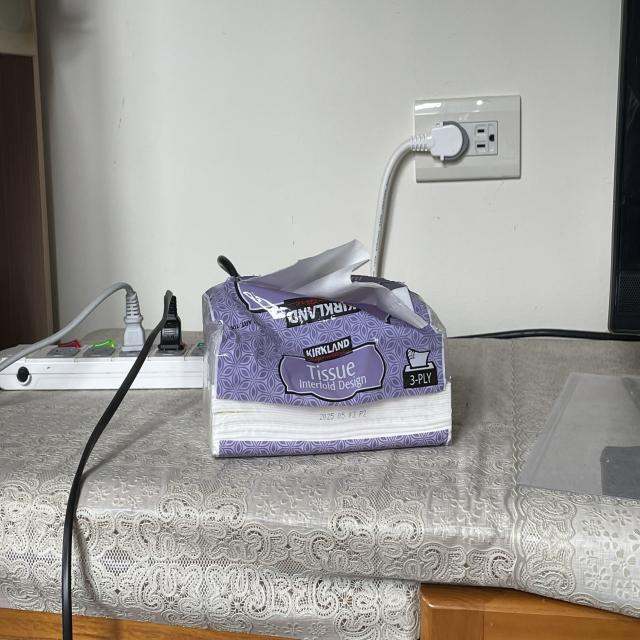tissue: (201, 233, 457, 462)
